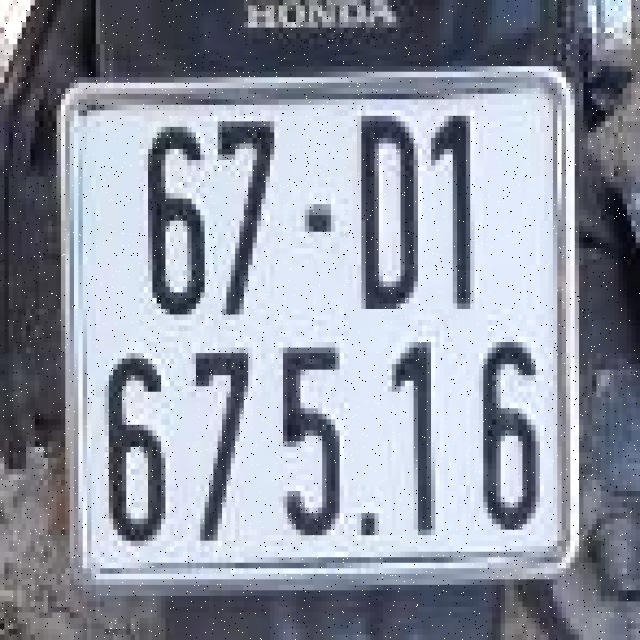1: (383, 328, 449, 538), (431, 110, 483, 309)
5: (274, 334, 344, 543)
6: (133, 110, 224, 342), (89, 334, 181, 560), (464, 326, 550, 540)
7: (185, 331, 255, 557), (207, 108, 281, 317)
D: (350, 110, 429, 320)
